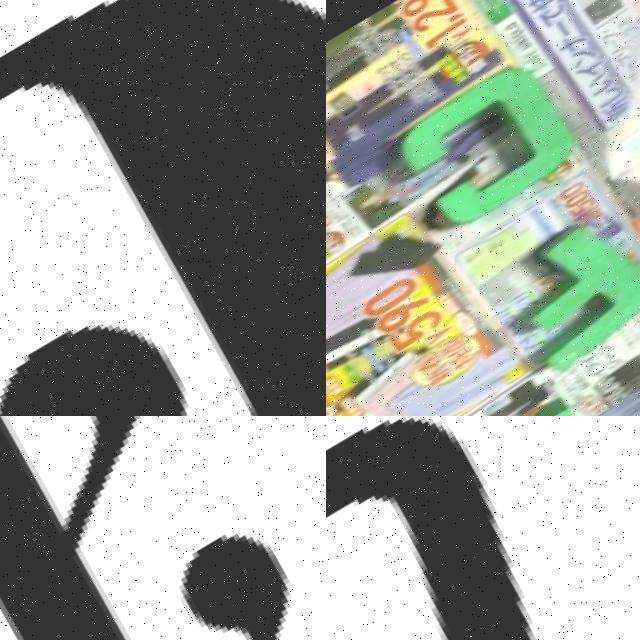A: (0, 416, 326, 640)
C: (0, 0, 326, 416), (395, 60, 585, 234)
F: (487, 198, 640, 380)
T: (326, 416, 640, 640)
Y: (491, 367, 640, 416)
